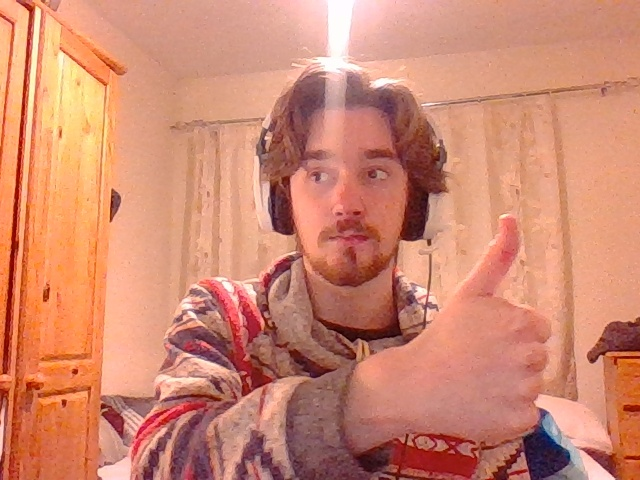good: (438, 214, 556, 438)
